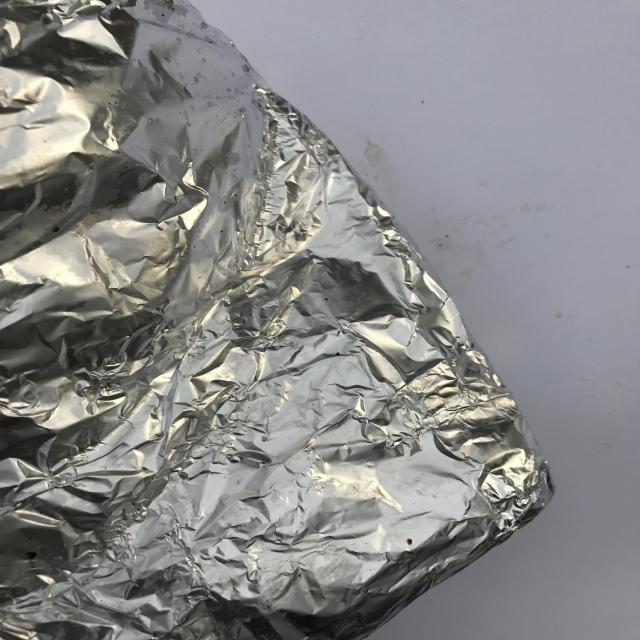metal: (1, 0, 556, 639)
